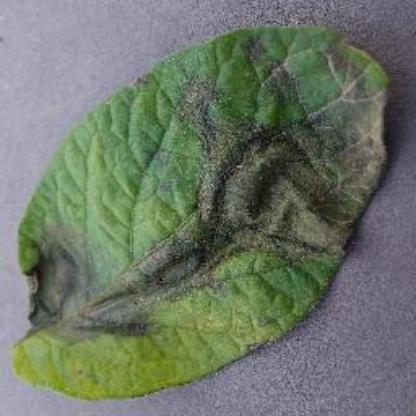Late-Blight: (14, 17, 396, 404)
